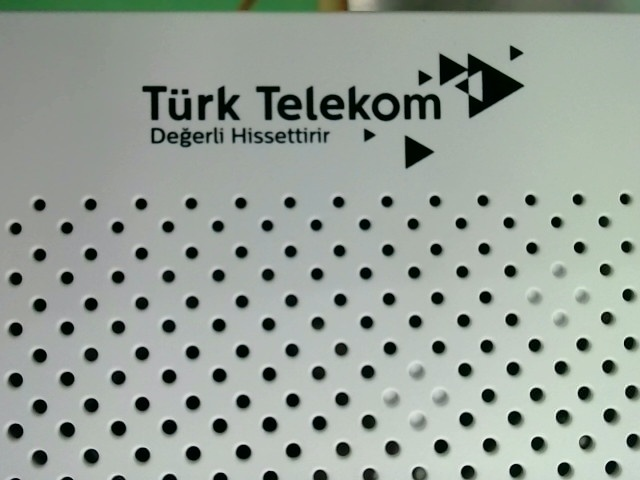AQ_TURKTelekom: (137, 43, 524, 171)
